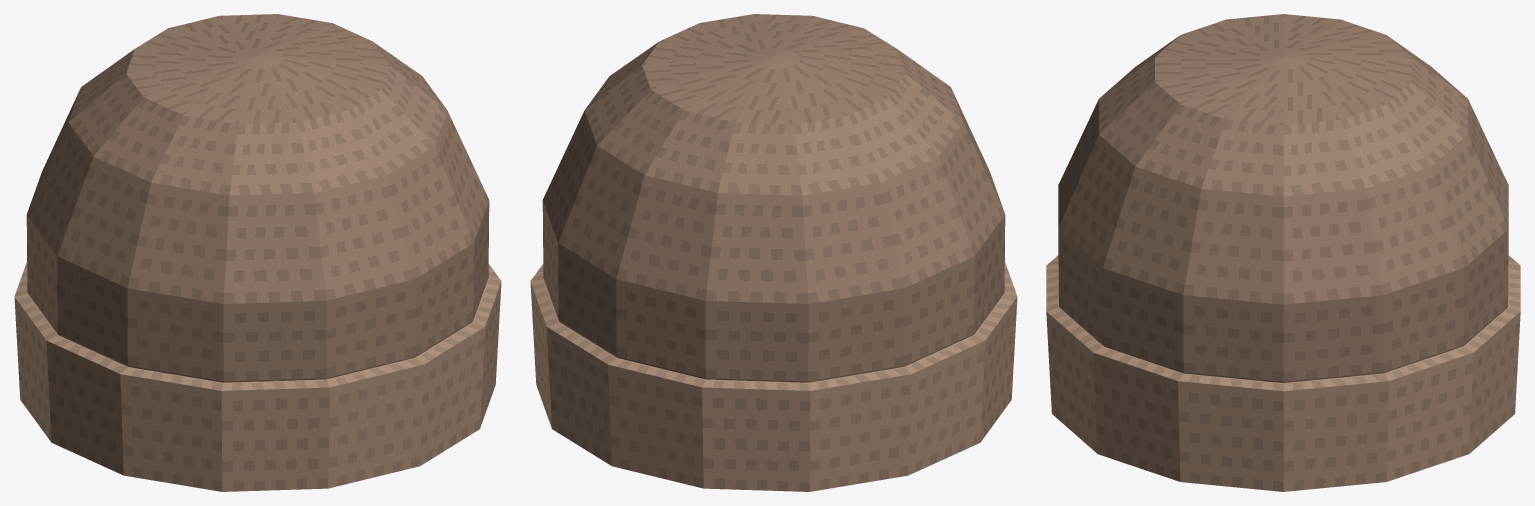
File: hat_faux_fur.glb
3 renders of one model, left to right at view 1: azimuth 30°, elevation 25°; view 2: azimuth 150°, elevation 25°; view 3: azimuth 270°, elevation 25°, orthographic.
Visible parts, largest first — view 1: block_fabric crown, block_turn-up cuff; view 2: block_fabric crown, block_turn-up cuff; view 3: block_fabric crown, block_turn-up cuff.
Boxes of the visible parts, x1=… form: block_fabric crown: x1=26, y1=14, x2=489, y2=382; block_turn-up cuff: x1=14, y1=262, x2=501, y2=491; block_fabric crown: x1=542, y1=14, x2=1005, y2=382; block_turn-up cuff: x1=530, y1=262, x2=1017, y2=491; block_fabric crown: x1=1058, y1=14, x2=1508, y2=382; block_turn-up cuff: x1=1046, y1=255, x2=1520, y2=491.
Bounding box in the file's own units: 0.2244 × 0.1706 × 0.2188.
1 material, 1 textured.
